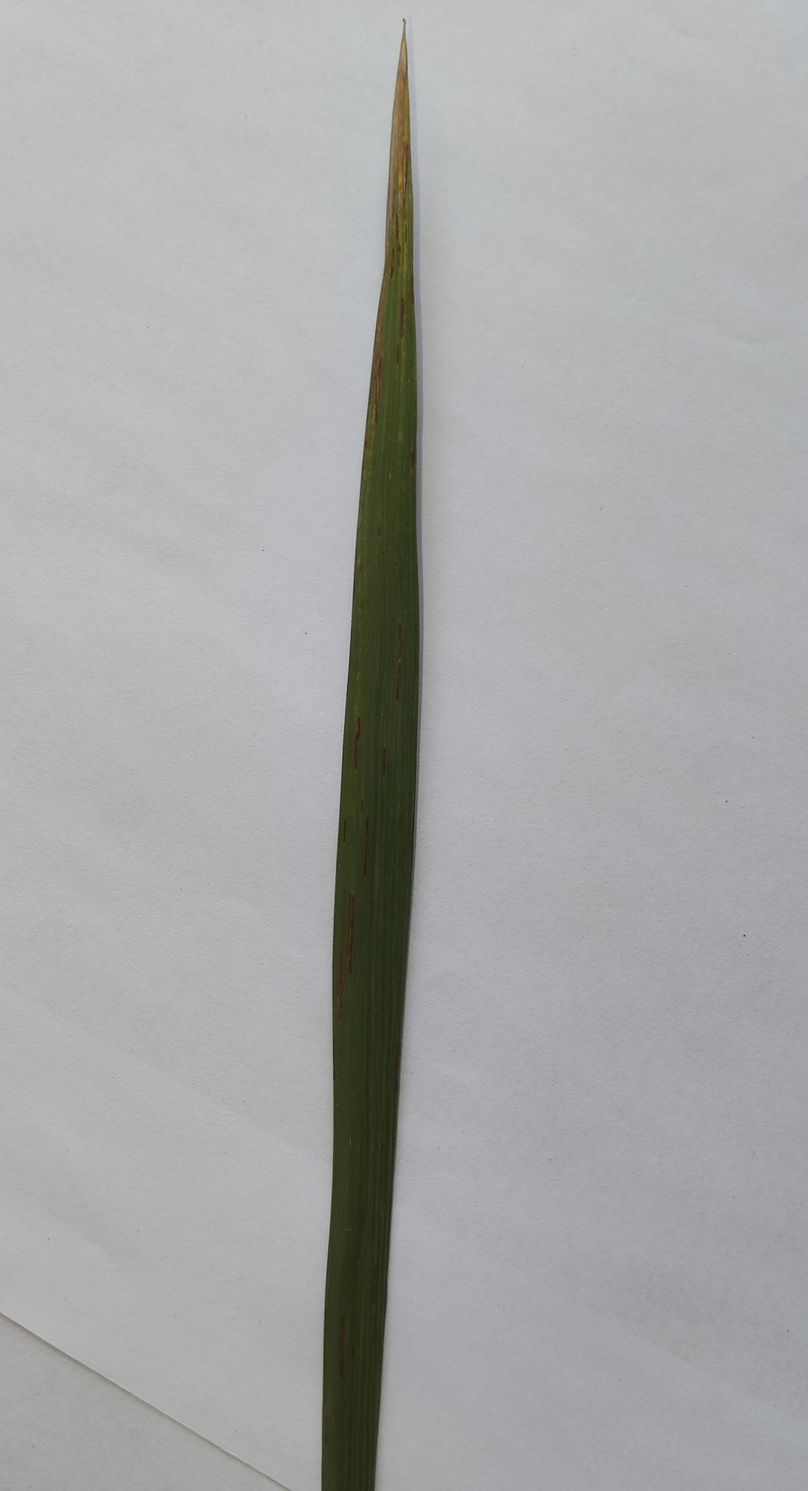NBS: (346, 892, 355, 975), (394, 621, 402, 702), (374, 353, 383, 423), (353, 717, 361, 770), (339, 1314, 344, 1378), (364, 815, 369, 876), (338, 953, 342, 1015), (400, 297, 406, 338), (343, 816, 347, 842), (382, 746, 385, 776), (396, 343, 400, 364), (359, 797, 363, 813)
